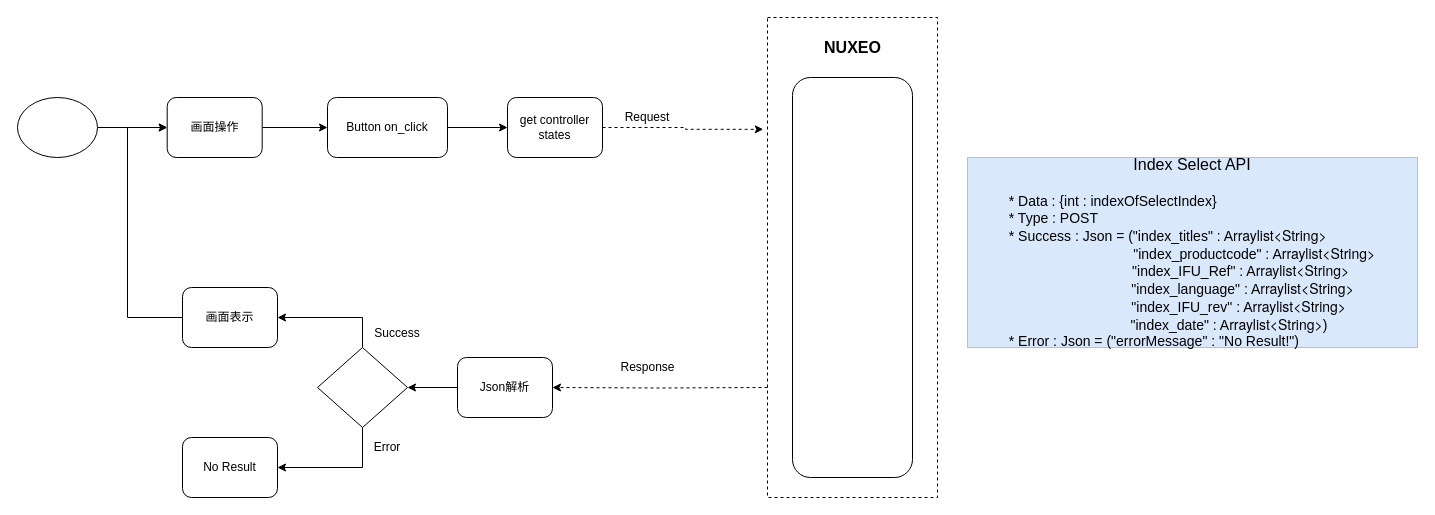
Some shapes in this 1435 by 515 pixel diagram are drawn without their labels. The centre of each missing label's shape, as x and y in pixels:
"Index Select API" goes at (852,277).
"Start" goes at (57,127).
"Success or Error?" goes at (362,387).
